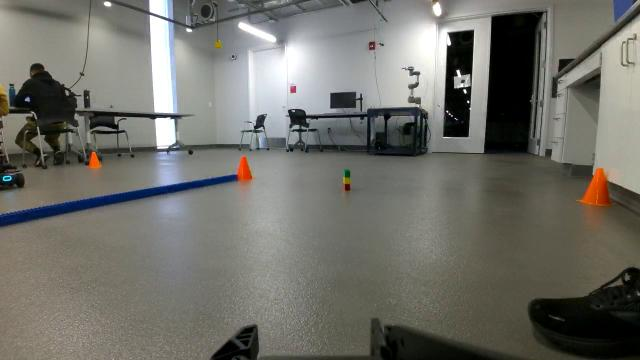lego: (338, 162, 358, 197)
